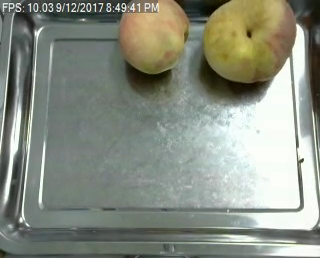Peach: (202, 0, 297, 82), (119, 0, 190, 74)
